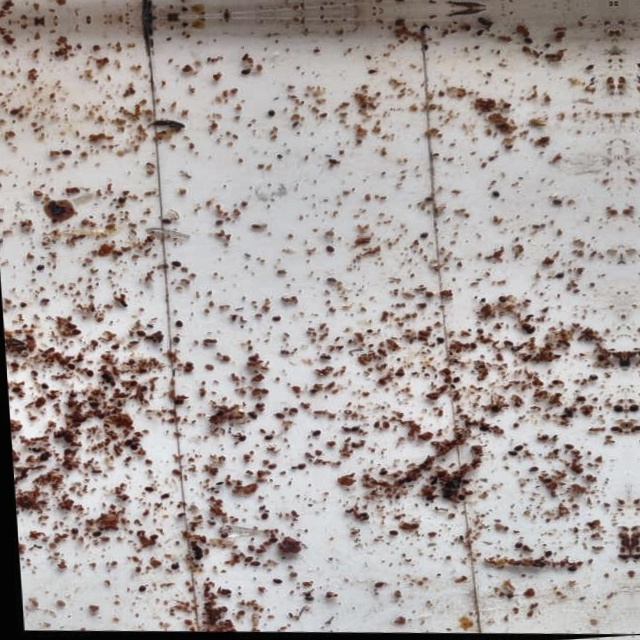varroa: (269, 414, 285, 424), (484, 405, 497, 417), (369, 471, 384, 481), (258, 435, 271, 446), (166, 264, 180, 274), (265, 317, 279, 327), (517, 324, 531, 334), (568, 394, 582, 404), (508, 444, 522, 454), (81, 405, 96, 414), (180, 363, 192, 374), (474, 18, 487, 28), (289, 464, 302, 474), (581, 374, 595, 383), (17, 338, 31, 347), (549, 273, 564, 281), (31, 267, 42, 277), (131, 589, 142, 599), (320, 248, 332, 257), (607, 405, 619, 414), (534, 435, 546, 444), (305, 432, 317, 441), (283, 409, 295, 418), (548, 199, 561, 207), (130, 334, 143, 342), (262, 540, 275, 548), (167, 339, 177, 349), (238, 71, 249, 80), (487, 191, 498, 200), (169, 324, 180, 333), (475, 427, 486, 436), (508, 542, 519, 551), (537, 551, 548, 560), (420, 197, 432, 205), (62, 328, 74, 336), (68, 334, 80, 342), (250, 405, 262, 413), (262, 466, 274, 474), (502, 451, 514, 459), (4, 366, 16, 374), (105, 347, 117, 355), (419, 497, 431, 505), (560, 566, 572, 574), (6, 392, 19, 399), (521, 328, 531, 337), (165, 566, 175, 575), (66, 531, 75, 541), (415, 234, 426, 242), (431, 338, 442, 346), (344, 428, 355, 436), (168, 403, 179, 411), (36, 388, 47, 396), (26, 452, 37, 460), (213, 535, 224, 543), (266, 581, 277, 589), (133, 372, 145, 379), (557, 444, 569, 451), (453, 481, 465, 488), (609, 554, 623, 560), (86, 536, 98, 543), (617, 422, 626, 431), (233, 438, 243, 446), (63, 396, 73, 404), (119, 443, 129, 451), (447, 378, 457, 386), (245, 564, 255, 572), (521, 39, 532, 46), (382, 532, 393, 539), (139, 491, 150, 498), (158, 222, 169, 229), (58, 154, 69, 161), (81, 374, 90, 382), (34, 462, 46, 468), (603, 427, 615, 433), (593, 353, 600, 363), (211, 223, 221, 230), (325, 161, 335, 168), (452, 496, 460, 504), (254, 517, 262, 525), (263, 113, 272, 120), (63, 369, 72, 376), (390, 373, 400, 379), (125, 449, 133, 456), (399, 480, 407, 487), (620, 407, 625, 417), (134, 390, 141, 396), (624, 481, 628, 488)
